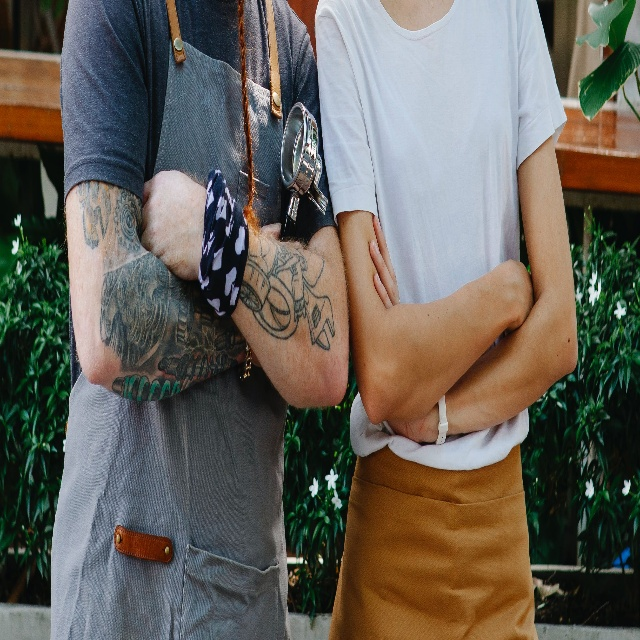Sin_guantes: (140, 169, 208, 282), (369, 215, 400, 309)
